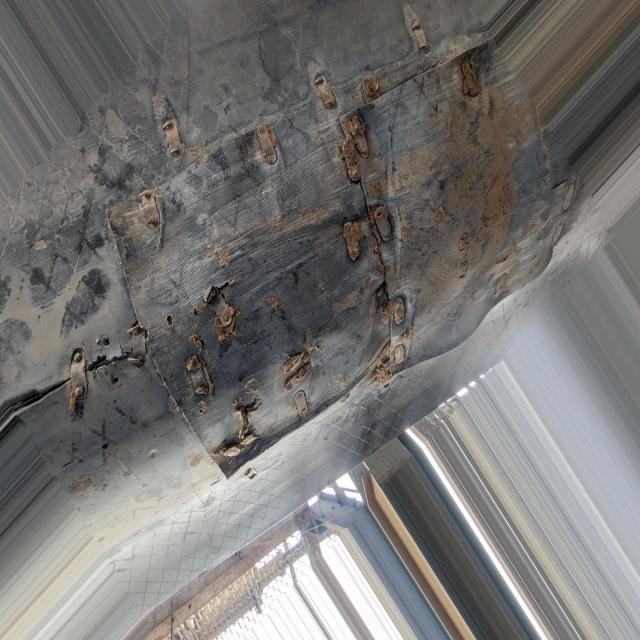patch work: (52, 10, 512, 478)
